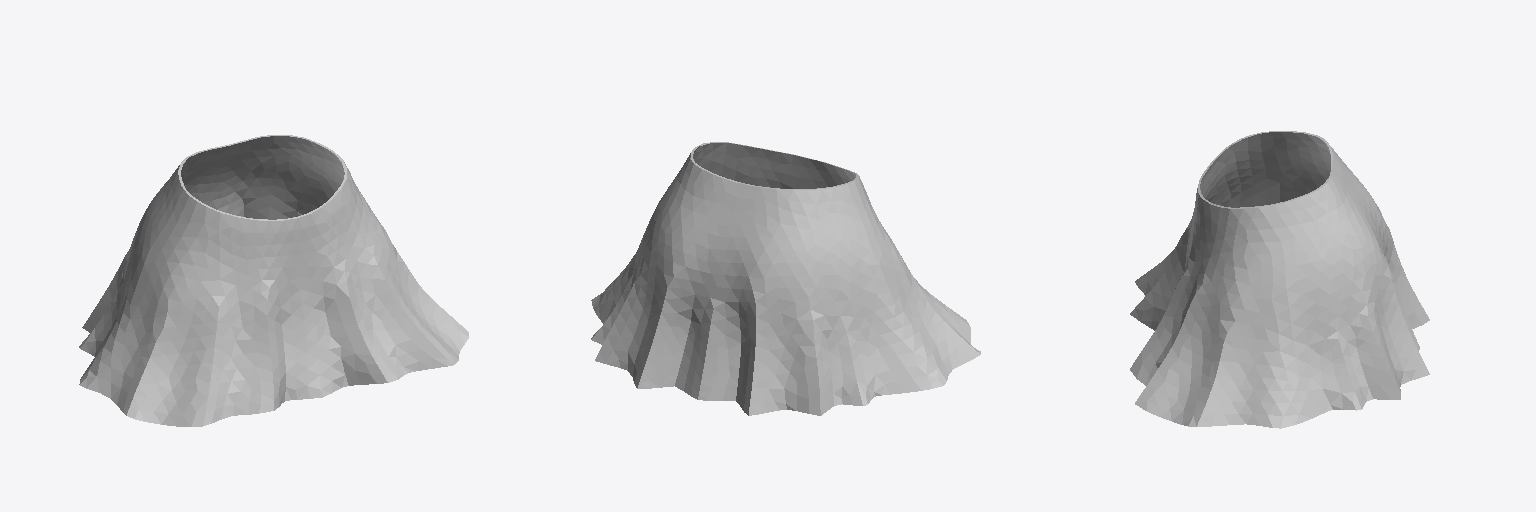
Rendered from skirt2011.obj.
The picture shows the model from 3 angles: view 1: azimuth 30°, elevation 25°; view 2: azimuth 150°, elevation 25°; view 3: azimuth 270°, elevation 25°; orthographic projection.
Bounding box in the file's own units: 0.495 × 0.2519 × 0.3663.